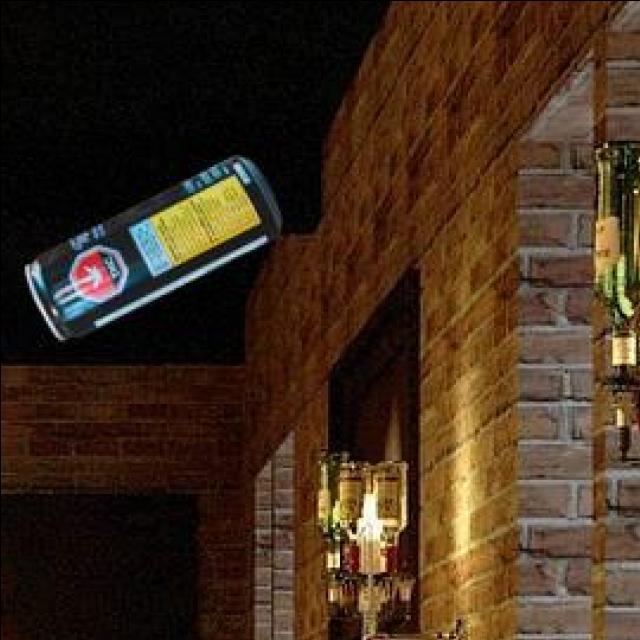logam: (23, 153, 276, 335)
